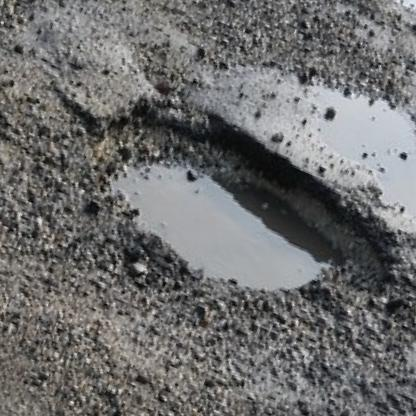pothole: (49, 65, 416, 373)
